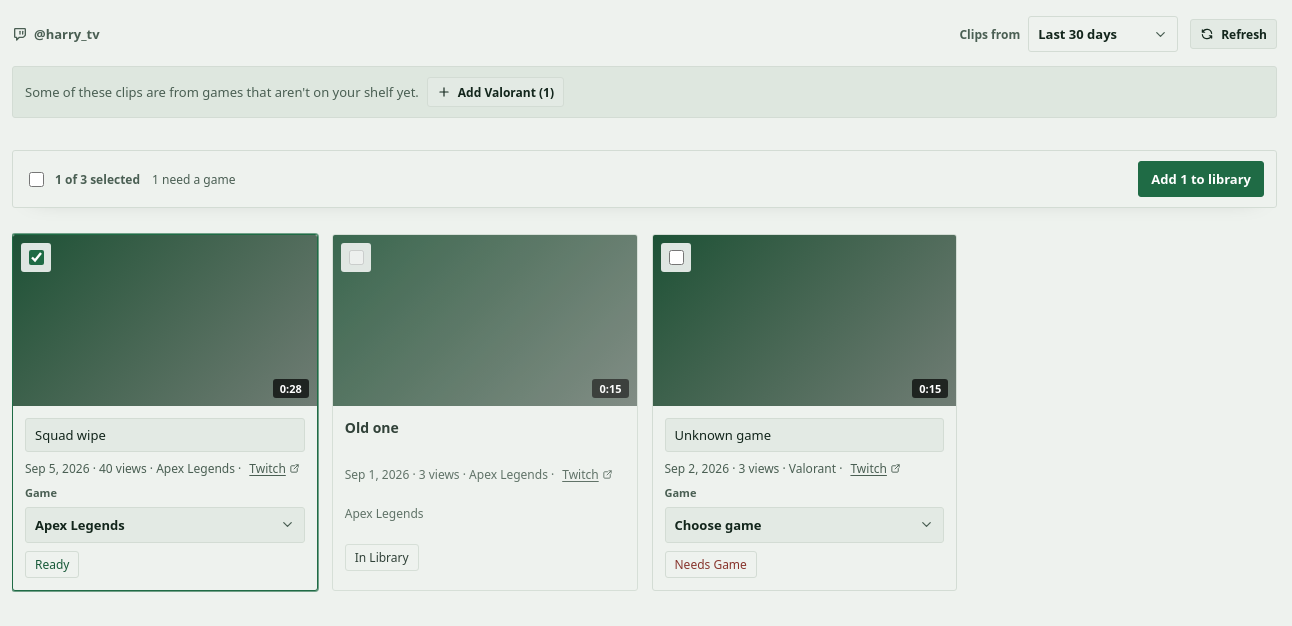
it: TwitchClipsPanel › shows the API's reason when an import fails and lets the user retry
Expected: the field showing "Squad wipe" is shown, [25,418,305,452]
Step 1. Click the button "Add 1 to library" → coordinates (1201, 179), box [1138,161,1264,197]
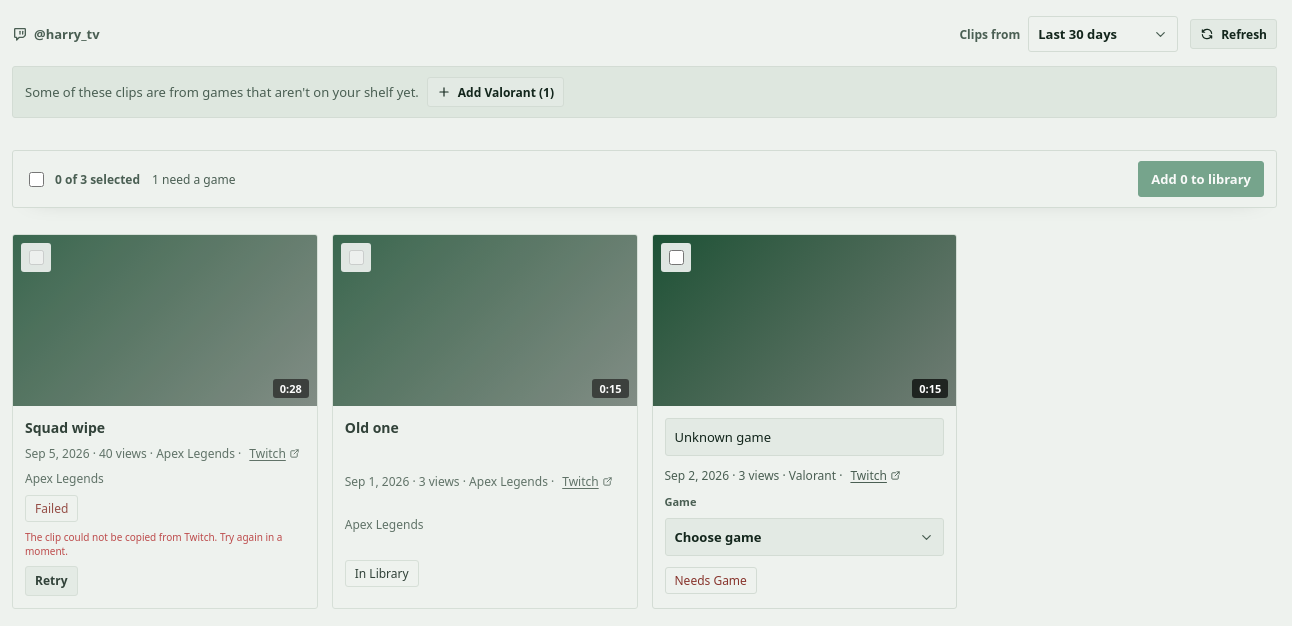
Now the text "could not be copied from Twitch" is shown, box [25,530,282,558]
Step 2. Click the button "Retry" → coordinates (51, 581), box [25,566,78,596]
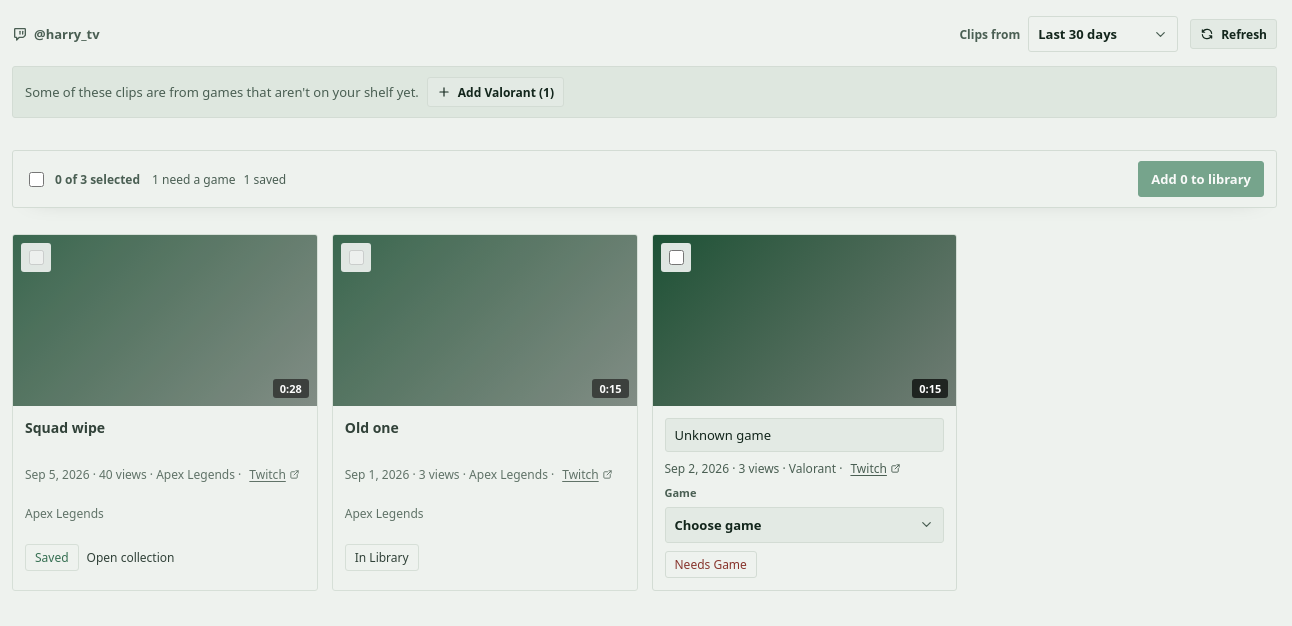
Now the text "saved" is shown, box [25,544,79,571]
